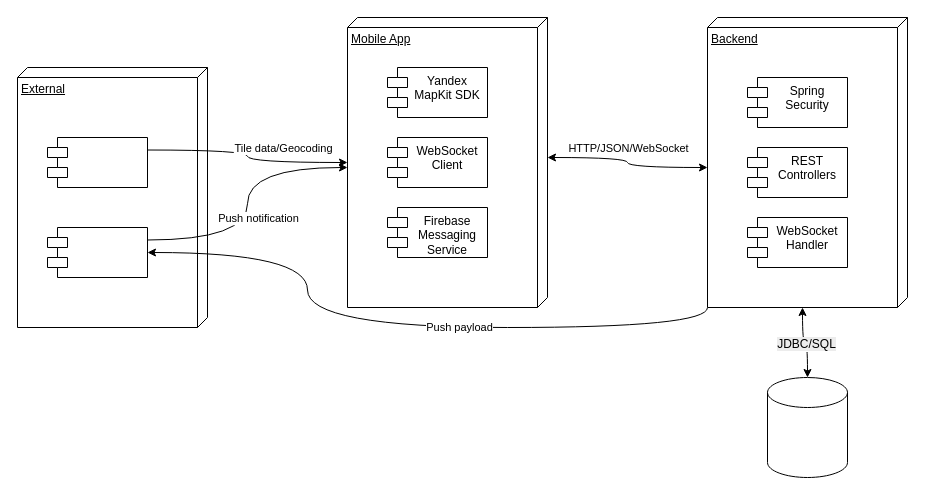
Some shapes in this 925 by 495 pixel diagram are drawn without their labels. Each missing label, with the centre of its shape:
"Firebase Cloud Messaging" goes at pixel 97 252.
"PostgreSQL" goes at pixel 807 427.
"Yandex Maps Api" goes at pixel 97 162.
